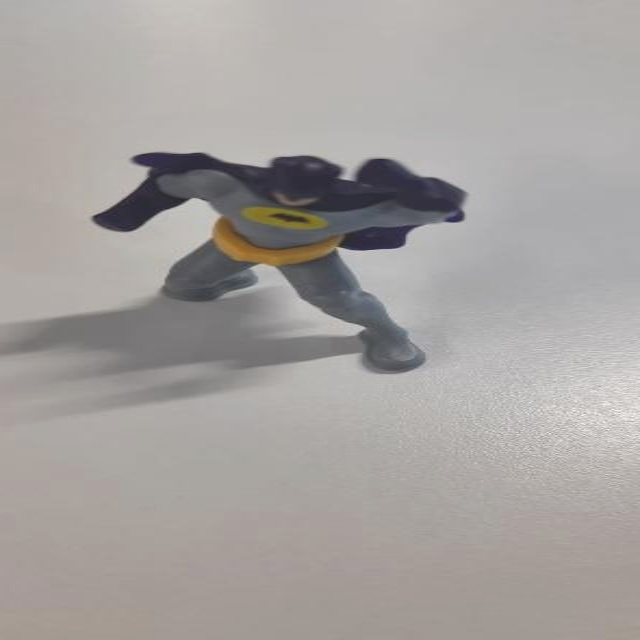Batman: (73, 137, 491, 407)
